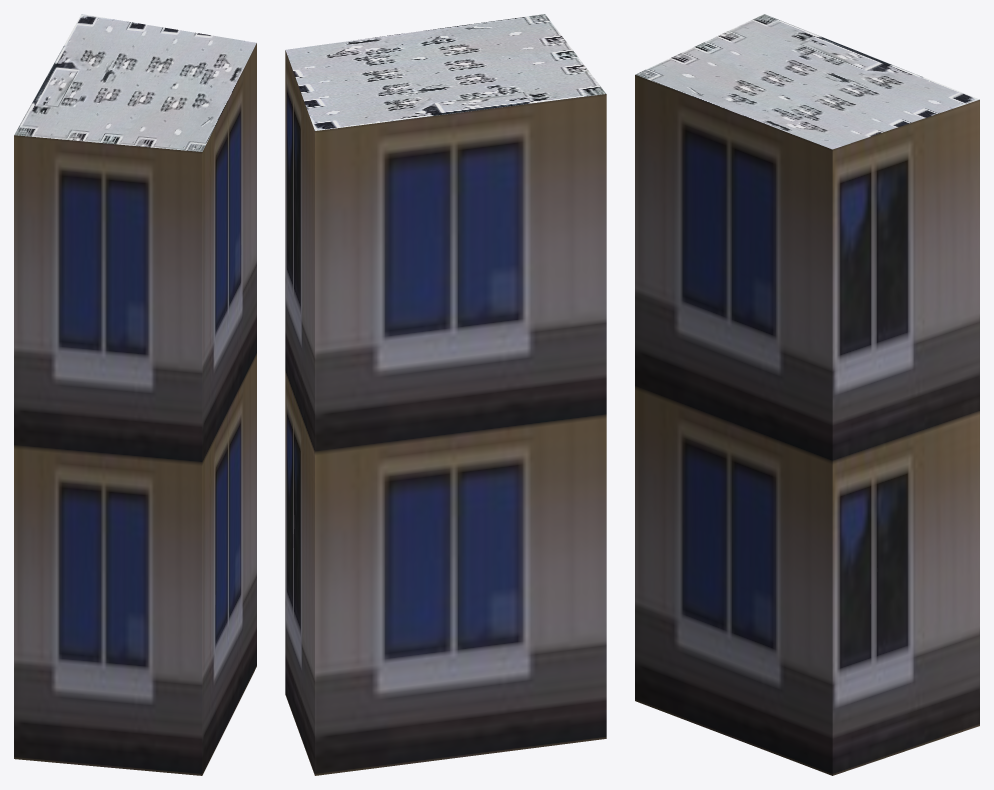
The model's file is ResTex__4781.fbx.
The picture shows the model from 3 angles, left to right: view 1: azimuth 30°, elevation 25°; view 2: azimuth 150°, elevation 25°; view 3: azimuth 270°, elevation 25°; orthographic projection. The views are drawn at different scales.
Visible parts, largest first — view 1: CityEngineMaterial_5_m, CityEngineMaterial_8_m; view 2: CityEngineMaterial_5_m, CityEngineMaterial_8_m; view 3: CityEngineMaterial_5_m, CityEngineMaterial_8_m.
Boxes of the visible parts, x1,y1,x2,y2 form: CityEngineMaterial_5_m: (14, 43, 256, 775); CityEngineMaterial_8_m: (14, 14, 256, 151); CityEngineMaterial_5_m: (285, 50, 606, 775); CityEngineMaterial_8_m: (285, 14, 606, 130); CityEngineMaterial_5_m: (635, 75, 979, 775); CityEngineMaterial_8_m: (635, 14, 979, 149).
Bounding box in the file's own units: 2.78 × 6 × 2.99.
2 materials, 2 textured.
